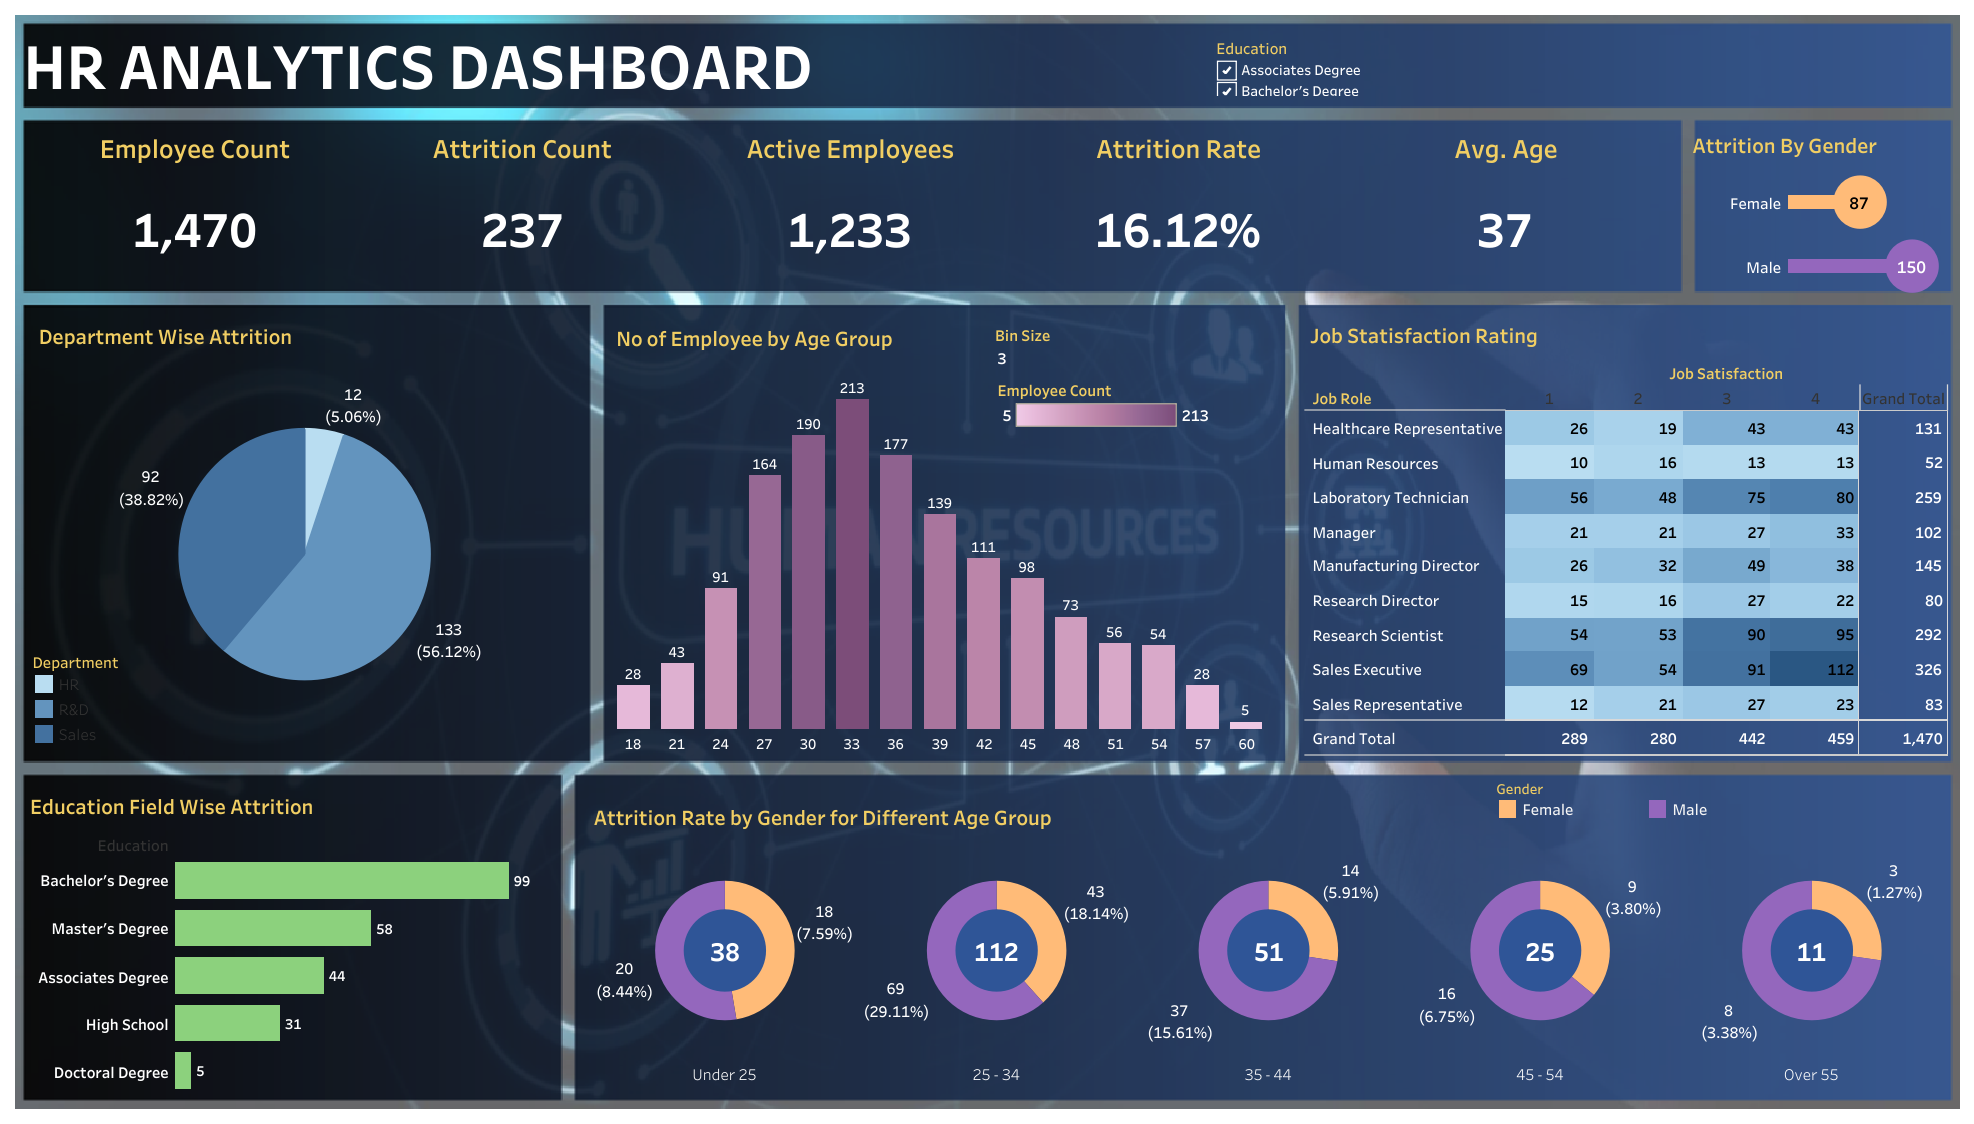

This screenshot's page, from the dashboard's own definition file:
{"tool":"tableau","page":{"name":"HR ANALYTICS DASHBOARD","canvas":[1580,900],"ordinal":0},"visuals":[{"type":"image","param":"Image/HR background.pptx.png","box":[8,8,1564,884]},{"type":"text","box":[16,19,953,63]},{"type":"filter","title":"Department Wise Attrition","param":"[federated.0egfeyo0lwui701dzy6gy1tuee7p].[none:Education:nk]","box":[973,28,206,49]},{"type":"worksheet","title":"Attrition By Gender","mark":"Automatic","rows":["Gender"],"cols":["Calculation_2117536300821151744","Calculation_2117536300821151744"],"box":[1350,98,206,140]},{"type":"worksheet","title":"KPI","mark":"Automatic","box":[25,102,1311,127]},{"type":"worksheet","title":"Job Statisfaction Rating","mark":"Square","rows":["Job Role"],"cols":["Job Satisfaction"],"box":[1044,250,516,355]},{"type":"worksheet","title":"Department Wise Attrition","mark":"Pie","box":[27,251,433,347]},{"type":"worksheet","title":"No of Employee by Age Group","mark":"Automatic","rows":["Employee Count"],"cols":["Age (bin)"],"box":[489,253,526,350]},{"type":"parameter","param":"[Parameters].[Parameter 1]","box":[796,258,202,42]},{"type":"legend","title":"No of Employee by Age Group","param":"[federated.0egfeyo0lwui701dzy6gy1tuee7p].[sum:Employee Count:qk]","box":[798,299,174,55]},{"type":"legend","title":"Department Wise Attrition","param":"[federated.0egfeyo0lwui701dzy6gy1tuee7p].[none:Department:nk]","box":[25,518,110,85]},{"type":"legend","title":"Attrition Rate by Gender for Different Age Group","param":"[federated.0egfeyo0lwui701dzy6gy1tuee7p].[none:Gender:nk]","box":[1196,621,358,56]},{"type":"worksheet","title":"Education Field Wise Attrition","mark":"Automatic","rows":["Education"],"cols":["Calculation_2117536300821151744"],"box":[20,627,425,249]},{"type":"worksheet","title":"Attrition Rate by Gender for Different Age Group","mark":"Pie","rows":["Calculation_2117536301464027140","Calculation_2117536301464027140"],"cols":["CF_age band"],"box":[471,636,1087,232]}]}

Visuals, with their boxes in screenshot pixels (x1, y1, x2, y2), scaled from the page's 1580x900 canvas onto the 1974x1124 screenshot:
image: bbox=[10, 10, 1964, 1114]
text: bbox=[20, 24, 1211, 102]
"Department Wise Attrition" filter: bbox=[1216, 35, 1473, 96]
"Attrition By Gender" worksheet: bbox=[1687, 122, 1944, 297]
"KPI" worksheet: bbox=[31, 127, 1669, 286]
"Job Statisfaction Rating" worksheet (Square marks): bbox=[1304, 312, 1949, 756]
"Department Wise Attrition" worksheet (Pie marks): bbox=[34, 313, 575, 747]
"No of Employee by Age Group" worksheet: bbox=[611, 316, 1268, 753]
parameter: bbox=[994, 322, 1247, 375]
"No of Employee by Age Group" legend: bbox=[997, 373, 1214, 442]
"Department Wise Attrition" legend: bbox=[31, 647, 169, 753]
"Attrition Rate by Gender for Different Age Group" legend: bbox=[1494, 776, 1942, 845]
"Education Field Wise Attrition" worksheet: bbox=[25, 783, 556, 1094]
"Attrition Rate by Gender for Different Age Group" worksheet (Pie marks): bbox=[588, 794, 1947, 1084]
